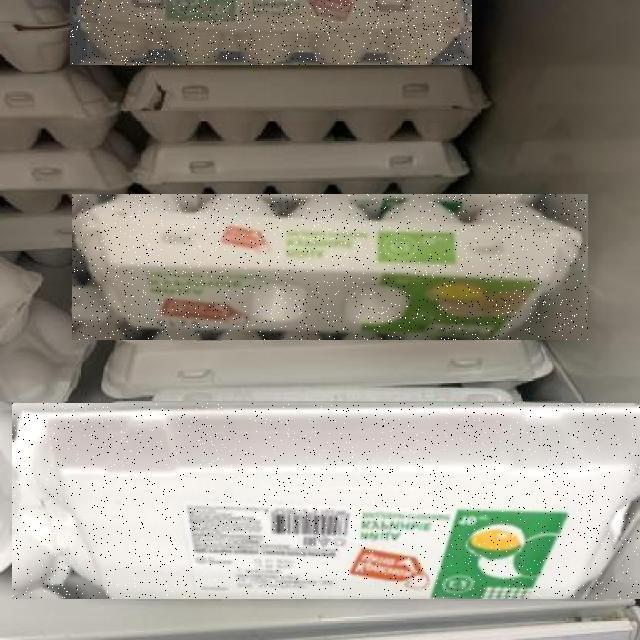Eggs: (12, 403, 640, 599), (72, 195, 588, 341), (70, 0, 472, 65)
